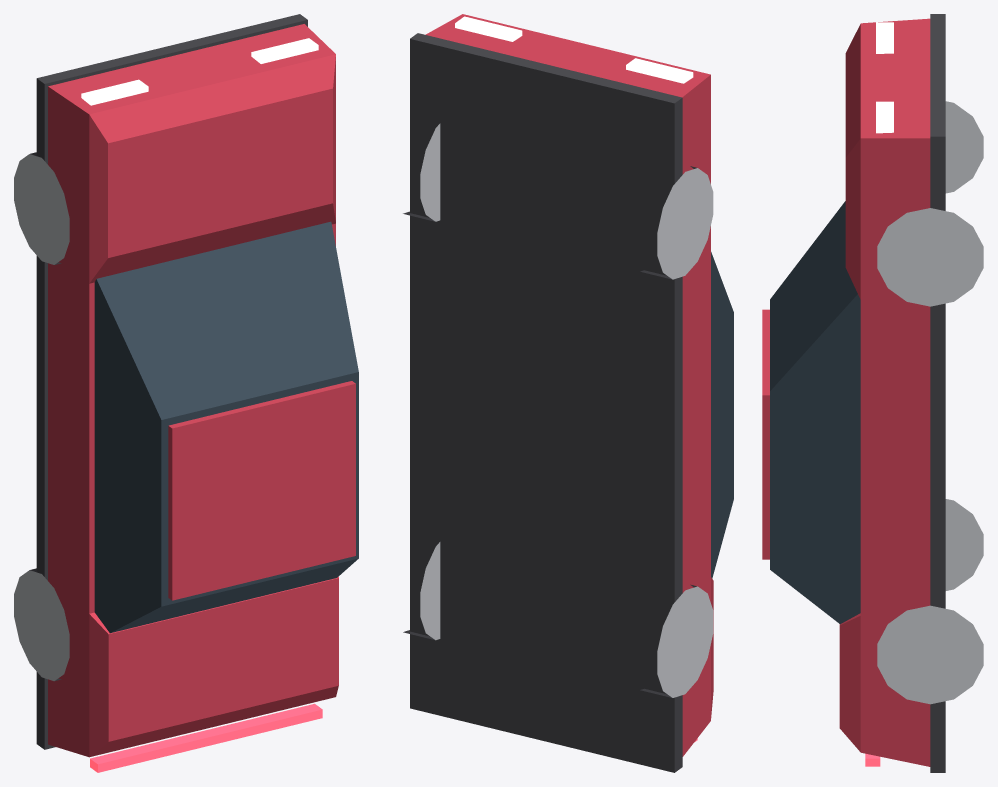
File: car.glb
The picture shows the model from 3 angles, left to right: view 1: azimuth 30°, elevation 25°; view 2: azimuth 150°, elevation 25°; view 3: azimuth 270°, elevation 25°; orthographic projection. The views are drawn at different scales.
Visible parts, largest first — view 1: car; view 2: car; view 3: car.
Boxes of the visible parts, x1,y1,x2,y2 form: car: (14, 14, 358, 772); car: (403, 14, 733, 772); car: (762, 14, 983, 772).
Size of the model in its own units: 1.96 by 4.66 by 1.46.
